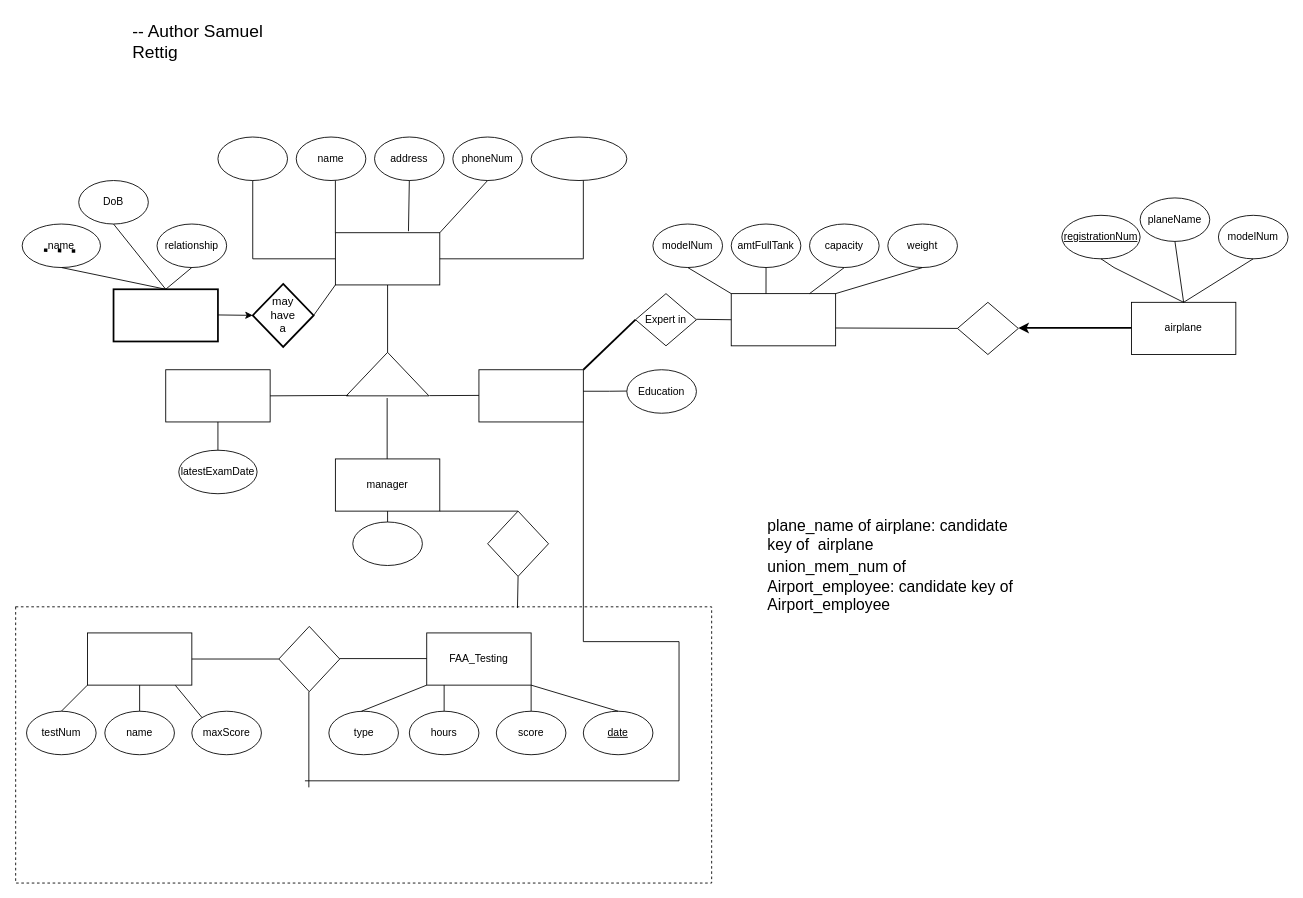
This 1303x898 diagram has some shape labels left out. Here are the shapes that lost their labels. From the top down, the box of each, then its label:
(217, 136, 288, 181): ssn
(530, 136, 627, 181): union_mem_num
(335, 232, 440, 285): Airport_employee
(112, 288, 218, 342): dependent
(730, 293, 836, 346): plane_Model
(957, 301, 1018, 355): has
(345, 351, 429, 396): ISA
(165, 369, 270, 422): trafficController
(478, 369, 583, 422): technician
(352, 521, 422, 566): benefit
(487, 510, 549, 576): Monitors
(87, 632, 192, 685): FAA_Test
(278, 626, 340, 692): used in
